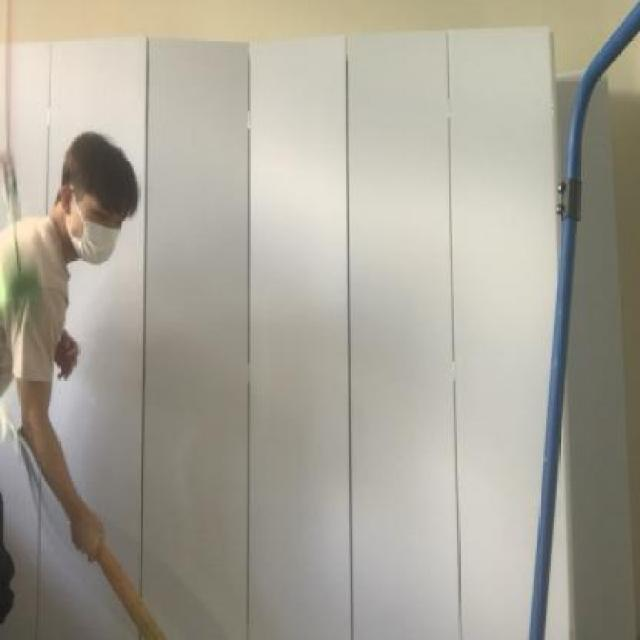baseball: (0, 254, 45, 332)
